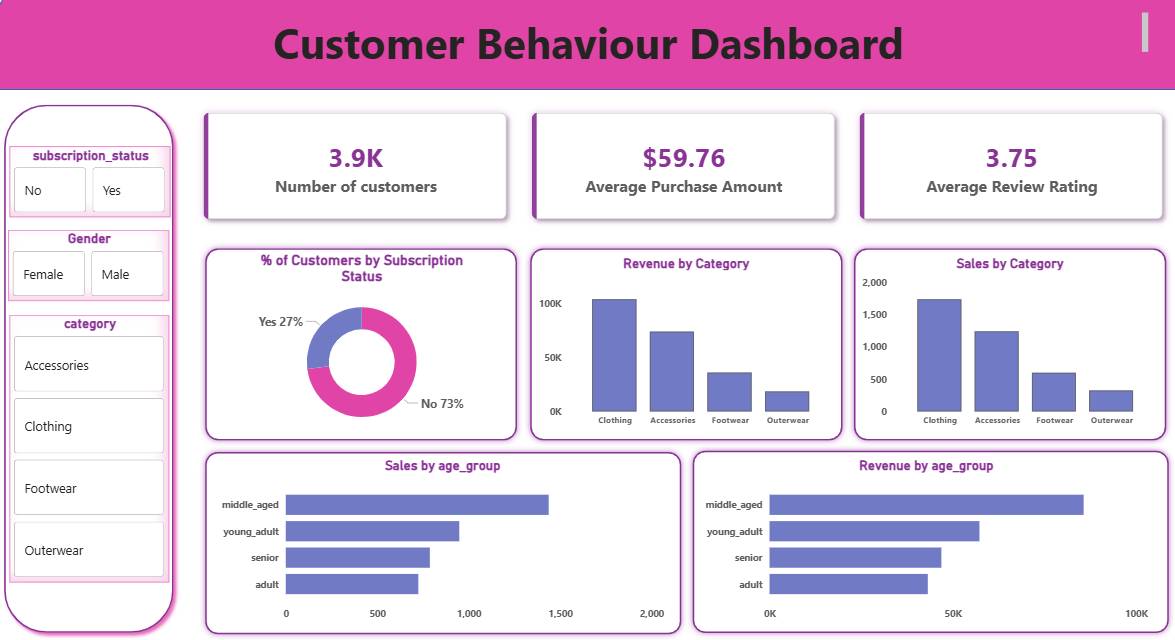

What the dashboard file says about the page in this screenshot:
{"tool":"powerbi","page":{"name":"Page 1","canvas":[1500,820],"ordinal":0},"visuals":[{"type":"cardVisual","fields":{"Data":["behaviour customer.Number of customers","behaviour customer.Average Purchase Amount","behaviour customer.Average Review Rating"]},"box":[231.9,126.2,1268.4,192.5],"z":0},{"type":"shape","box":[0,0,1500.3,126.2],"z":1000},{"type":"textbox","box":[42.6,23.7,1415.1,69.4],"z":2000},{"type":"shape","box":[255.8,319.1,407.9,257.1],"z":3000},{"type":"donutChart","title":"% of Customers by Subscription Status","fields":{"Category":["behaviour customer.subscription_status"],"Y":["CountNonNull(behaviour customer.customer_id)"]},"box":[285.4,329.8,350,235.6],"z":4000},{"type":"shape","box":[665.8,318.7,408.6,257.2],"z":5000},{"type":"shape","box":[1074.4,318.7,408.6,257.2],"z":6000},{"type":"clusteredColumnChart","title":"Revenue by Category","fields":{"Category":["behaviour customer.category"],"Y":["Sum(behaviour customer.purchase_amount)"]},"box":[678.4,334.5,383.4,225.6],"z":7000},{"type":"clusteredColumnChart","title":"Sales by Category","fields":{"Category":["behaviour customer.category"],"Y":["CountNonNull(behaviour customer.customer_id)"]},"box":[1087,334.5,383.4,225.6],"z":8000},{"type":"shape","box":[0,135.7,231.9,684.7],"z":9000},{"type":"advancedSlicerVisual","fields":{"Values":["behaviour customer.subscription_status"]},"box":[15.8,197.2,203.5,89.9],"z":10000},{"type":"advancedSlicerVisual","fields":{"Values":["behaviour customer.gender"]},"box":[14.2,302.9,203.5,89.9],"z":11000},{"type":"advancedSlicerVisual","fields":{"Values":["behaviour customer.category"]},"box":[15.8,410.2,201.9,337.6],"z":12000},{"type":"clusteredBarChart","title":"Revenue by age_group","fields":{"Y":["Sum(behaviour customer.purchase_amount)"],"Category":["behaviour customer.age_group"]},"box":[892.9,590,569.5,216.1],"z":13000},{"type":"shape","box":[255.6,575.8,615.3,244.5],"z":14000},{"type":"shape","box":[255.6,575.5,615.3,244.5],"z":14001},{"type":"shape","box":[870.8,574.3,615.3,244.5],"z":14002},{"type":"clusteredBarChart","title":"Revenue by age_group","fields":{"Y":["Sum(behaviour customer.purchase_amount)"],"Category":["behaviour customer.age_group"]},"box":[888.2,590,569.5,216.1],"z":14003},{"type":"clusteredBarChart","title":"Sales by age_group","fields":{"Category":["behaviour customer.age_group"],"Y":["CountNonNull(behaviour customer.customer_id)"]},"box":[277.7,590,569.5,216.1],"z":14004}]}

Visuals, with their boxes in screenshot pixels (x1, y1, x2, y2), scaled from the page's 1500x820 canvas onto the 1175x640 screenshot:
cardVisual - behaviour customer.Number of customers x behaviour customer.Average Purchase Amount: bbox=(182, 98, 1174, 249)
shape: bbox=(0, 0, 1174, 98)
textbox: bbox=(33, 18, 1142, 73)
shape: bbox=(200, 249, 520, 450)
"% of Customers by Subscription Status" donutChart: bbox=(224, 257, 498, 441)
shape: bbox=(522, 249, 842, 449)
shape: bbox=(842, 249, 1162, 449)
"Revenue by Category" clusteredColumnChart: bbox=(531, 261, 832, 437)
"Sales by Category" clusteredColumnChart: bbox=(851, 261, 1152, 437)
shape: bbox=(0, 106, 182, 639)
advancedSlicerVisual - behaviour customer.subscription_status: bbox=(12, 154, 172, 224)
advancedSlicerVisual - behaviour customer.gender: bbox=(11, 236, 171, 307)
advancedSlicerVisual - behaviour customer.category: bbox=(12, 320, 171, 584)
"Revenue by age_group" clusteredBarChart: bbox=(699, 460, 1146, 629)
shape: bbox=(200, 449, 682, 639)
shape: bbox=(200, 449, 682, 639)
shape: bbox=(682, 448, 1164, 639)
"Revenue by age_group" clusteredBarChart: bbox=(696, 460, 1142, 629)
"Sales by age_group" clusteredBarChart: bbox=(218, 460, 664, 629)
